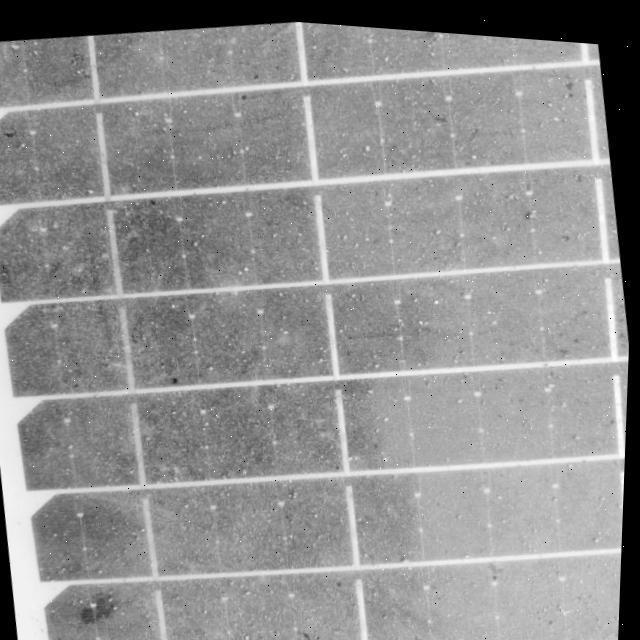Surface Contaminant: (0, 17, 627, 640)
